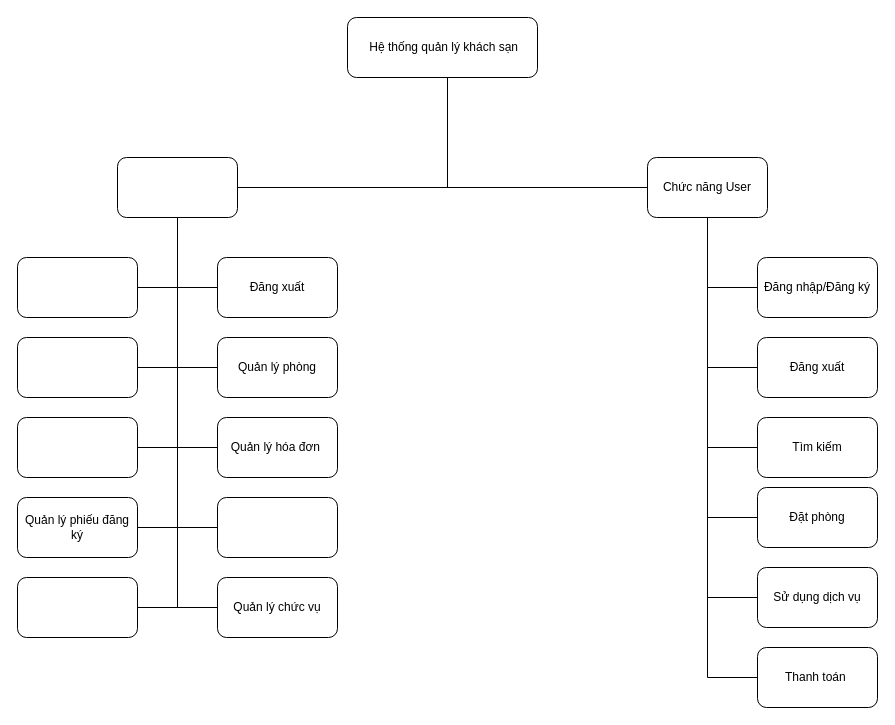
Some shapes in this 895 by 725 pixel diagram are drawn without their labels. Each missing label, with the centre of its shape:
Chứ năng quản lý Adimin: the point at 177,187
Quản lý dịch vụ: the point at 77,607
Quản lý khách hàng: the point at 77,367
Quản lý nhân viên: the point at 77,447
Quản lý phiếu thanh toán: the point at 277,527
Đăng nhập: the point at 77,287
